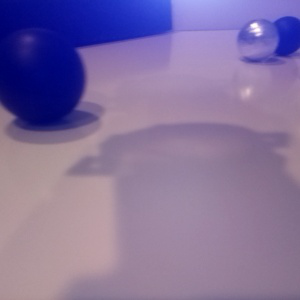alive_ball: (237, 18, 279, 62)
dead_ball: (1, 28, 85, 122), (268, 17, 300, 56)
